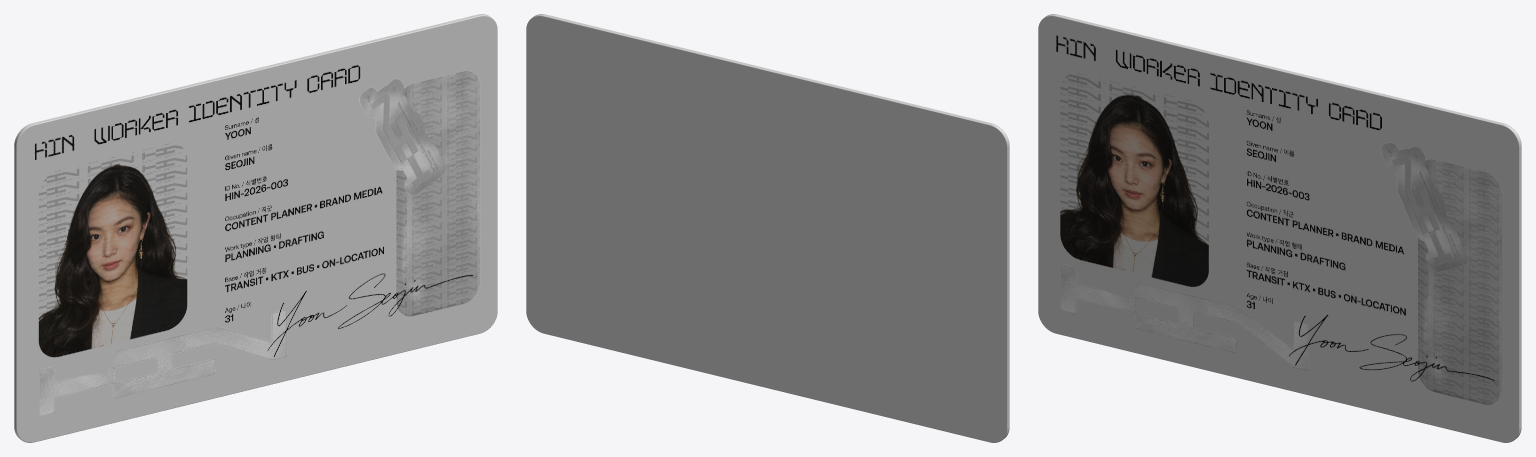
Rendered from hin-id-card.glb.
3 renders of one model, left to right at view 1: azimuth 30°, elevation 25°; view 2: azimuth 150°, elevation 25°; view 3: azimuth 330°, elevation 25°, orthographic.
Visible parts, largest first — view 1: HIN_Worker_ID_Card; view 2: HIN_Worker_ID_Card; view 3: HIN_Worker_ID_Card.
Boxes of the visible parts, x1=… form: HIN_Worker_ID_Card: x1=14, y1=14, x2=497, y2=442; HIN_Worker_ID_Card: x1=526, y1=14, x2=1009, y2=442; HIN_Worker_ID_Card: x1=1038, y1=14, x2=1521, y2=442.
Size of the model in its own units: 0.0856 by 0.054 by 0.00076.
2 materials, 1 textured.
